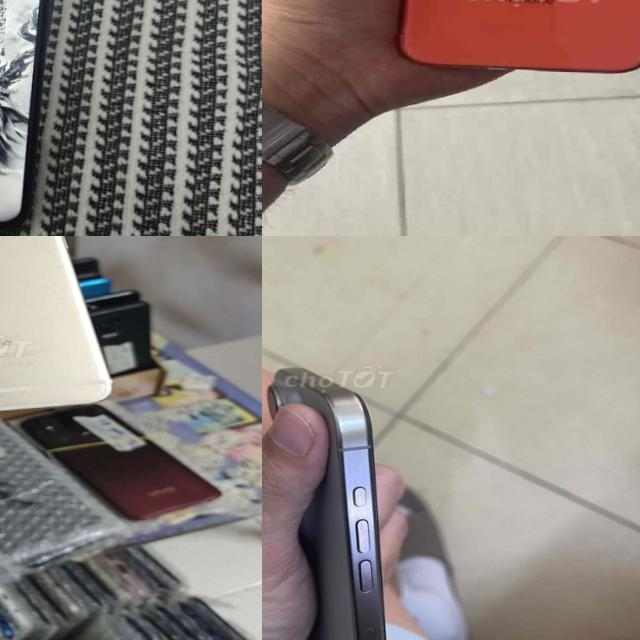gen_11: (0, 0, 54, 236)
gen_15: (262, 357, 435, 640)
gen_6: (0, 236, 112, 410)
gen_x_xs: (392, 0, 640, 76)
scratch: (44, 276, 64, 287)
